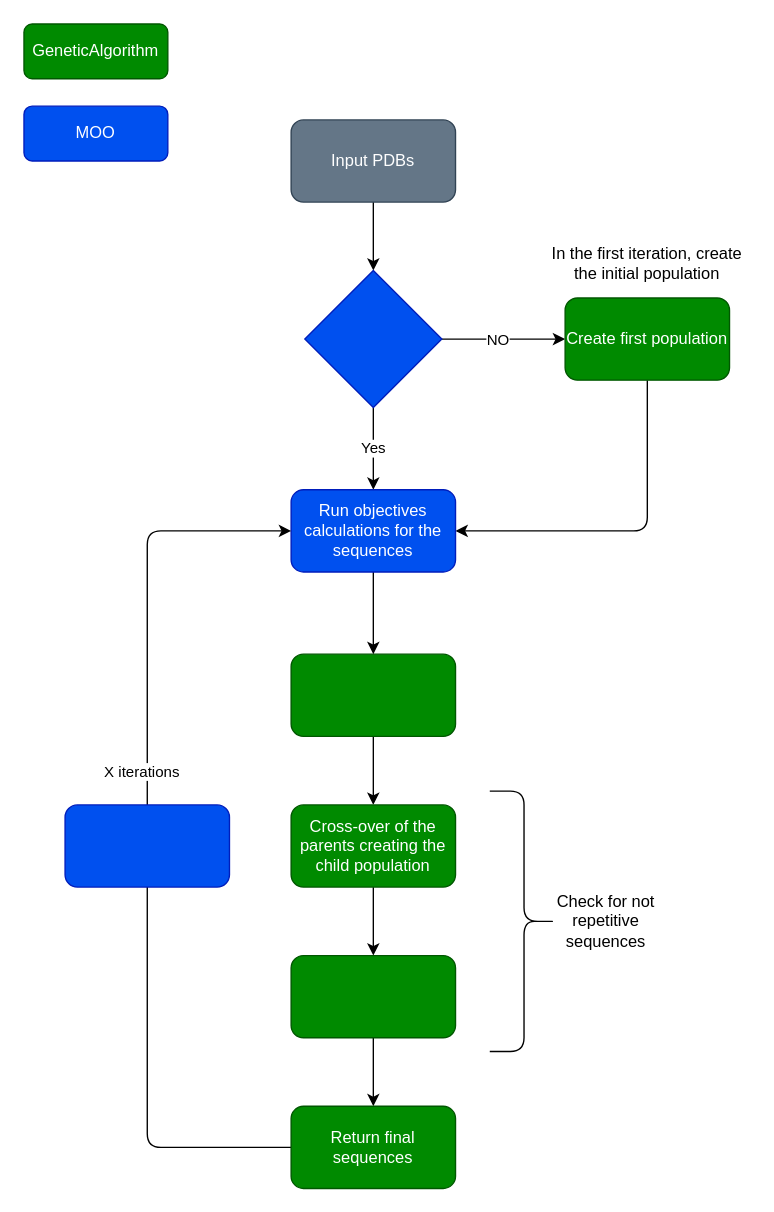
Image size: 774x1212. Some labels were removed from this diagram. The shapes that lost their labels are listed below. From the top down, each one's box as (x1, y1, x2, y2) in pixels, then its label:
(303, 269, 442, 408): Enough sequences
(290, 653, 456, 736): Selection parents by fitnes
(64, 804, 229, 887): Saving the sequences in the dataclass
(290, 954, 456, 1038): Mutation of the population
